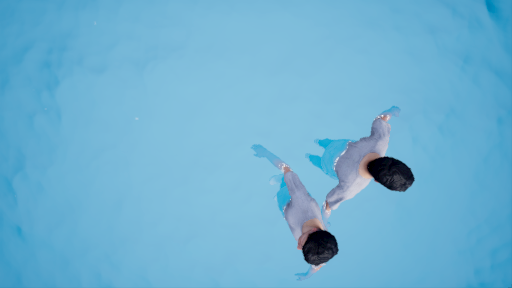person: (246, 103, 421, 274)
